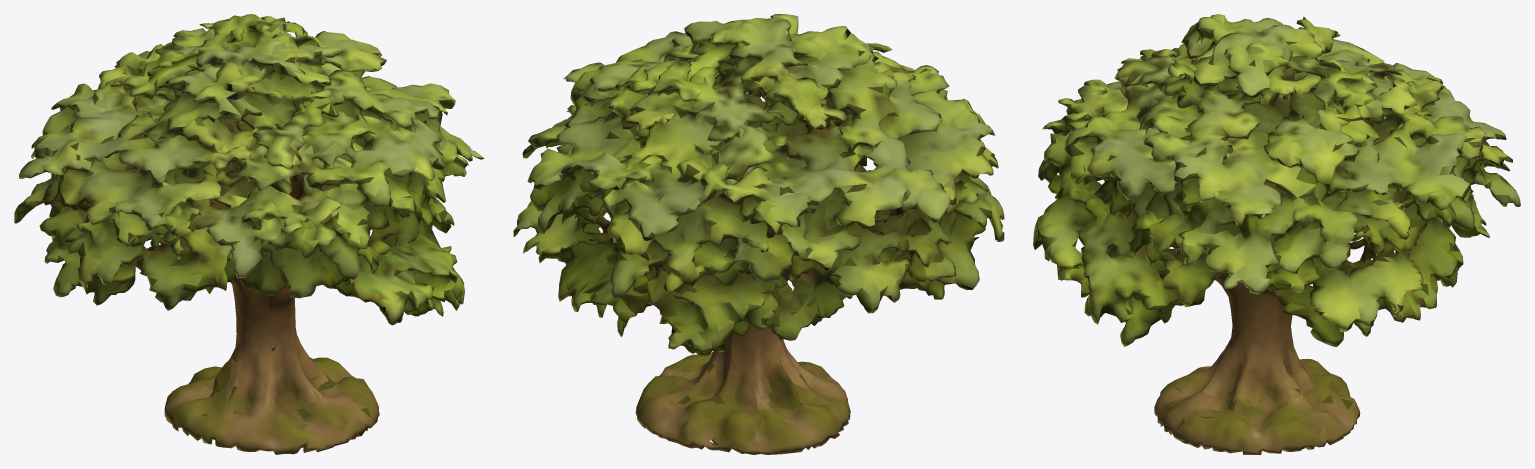
The picture shows the model from 3 angles, left to right: view 1: azimuth 30°, elevation 25°; view 2: azimuth 150°, elevation 25°; view 3: azimuth 270°, elevation 25°; orthographic projection. The views are drawn at different scales.
Parts seen in each view (by area): view 1: Dst; view 2: Dst; view 3: Dst.
Part boxes in pixels (bbox=[...]): Dst: bbox=[14, 14, 484, 454]; Dst: bbox=[513, 14, 1004, 454]; Dst: bbox=[1033, 14, 1520, 454].
Bounding box in the file's own units: 9.36 × 8 × 9.59.
1 material, 1 textured.
